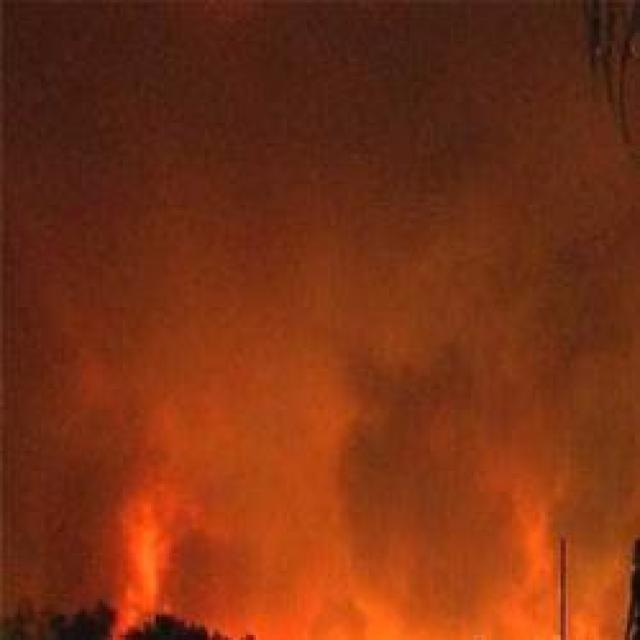Fire: (107, 486, 640, 637)
Smoke: (0, 0, 640, 443)
